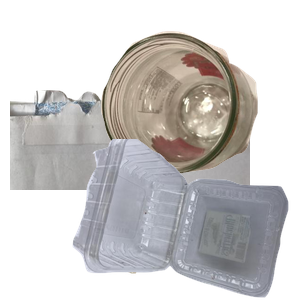glass: (98, 29, 300, 198)
paper: (10, 84, 250, 264)
plastic: (70, 139, 300, 300)
trash: (120, 131, 290, 300)
